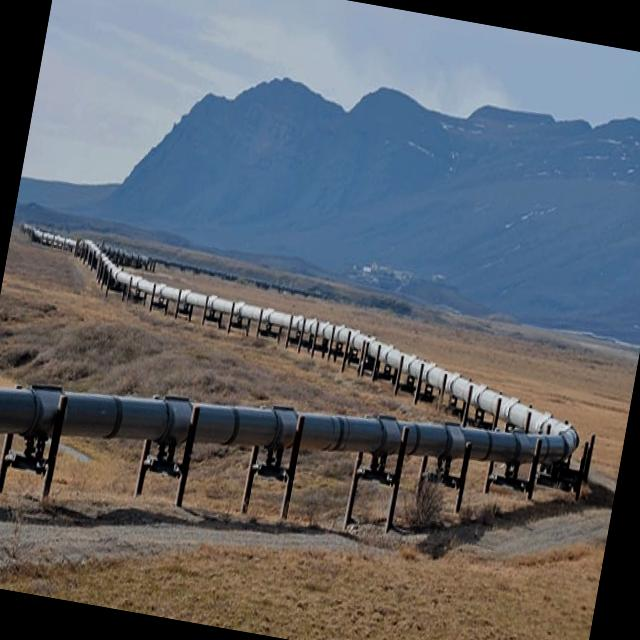gas: (22, 225, 571, 435), (62, 393, 577, 463), (470, 383, 571, 434), (0, 386, 61, 439), (422, 362, 469, 401), (403, 355, 421, 380), (380, 346, 399, 368)
